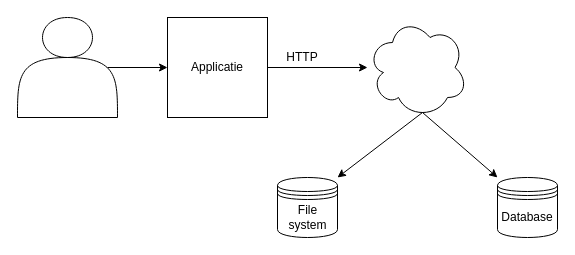
This 575x255 diagram has some shape labels left out. The shapes that lost their labels are listed below. From the top down, each one's box as (x1, y1, x2, y2) in pixels, then its label:
(16, 16, 118, 118): User
(366, 16, 468, 118): Server
